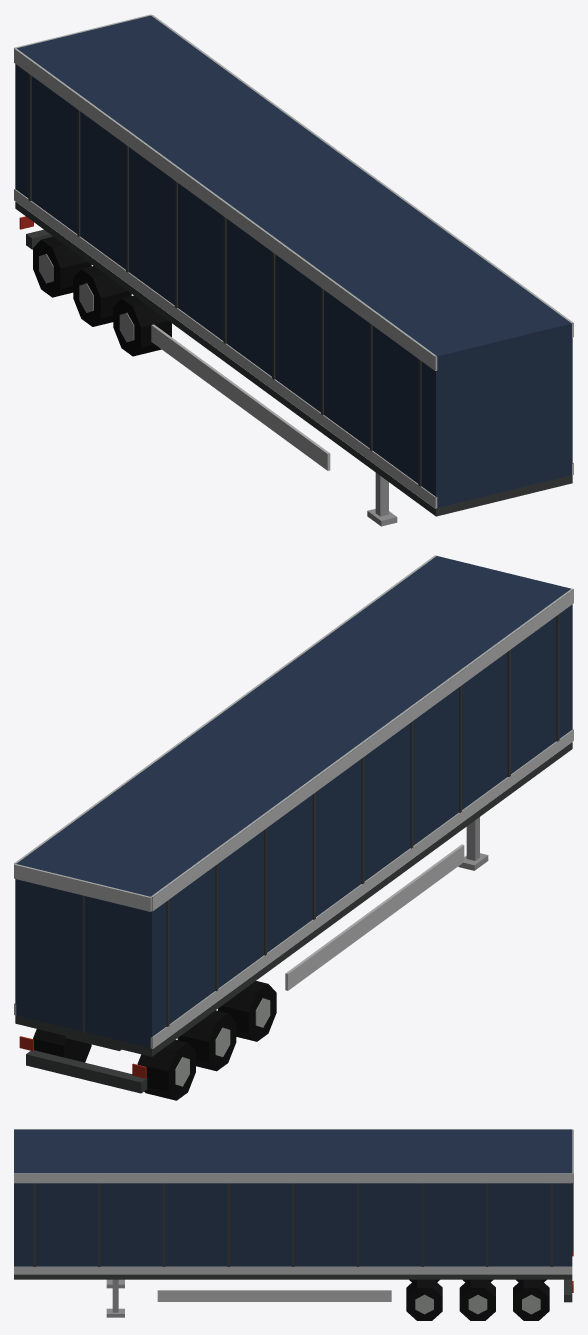
Rendered from vehicle.lorry.trailer_navy.glb.
3 views of the same model, one above another, from view 1: azimuth 30°, elevation 25°; view 2: azimuth 150°, elevation 25°; view 3: azimuth 270°, elevation 25° (orthographic). The views are drawn at different scales.
Visible parts, largest first — view 1: main__paint_235, main__paint_bbb, main__paint_333, main__rubber, main__steel_999, main__paint_999; view 2: main__paint_235, main__paint_bbb, main__paint_333, main__rubber, main__steel_999, main__paint_999; view 3: main__paint_235, main__paint_bbb, main__paint_333, main__rubber, main__steel_999, main__paint_999.
Boxes of the visible parts, x1=… form: main__paint_235: x1=15, y1=15, x2=572, y2=507; main__paint_bbb: x1=14, y1=14, x2=573, y2=508; main__paint_333: x1=15, y1=73, x2=572, y2=516; main__rubber: x1=33, y1=236, x2=171, y2=356; main__steel_999: x1=39, y1=254, x2=134, y2=342; main__paint_999: x1=367, y1=473, x2=397, y2=526; main__paint_235: x1=15, y1=556, x2=572, y2=1047; main__paint_bbb: x1=14, y1=555, x2=573, y2=1048; main__paint_333: x1=15, y1=614, x2=572, y2=1093; main__rubber: x1=33, y1=981, x2=276, y2=1100; main__steel_999: x1=175, y1=998, x2=270, y2=1086; main__paint_999: x1=458, y1=817, x2=488, y2=870; main__paint_235: x1=14, y1=1129, x2=572, y2=1266; main__paint_bbb: x1=14, y1=1129, x2=573, y2=1301; main__paint_333: x1=14, y1=1183, x2=573, y2=1302; main__rubber: x1=406, y1=1279, x2=549, y2=1320; main__steel_999: x1=415, y1=1294, x2=540, y2=1314; main__paint_999: x1=106, y1=1279, x2=124, y2=1317.
Bounding box in the file's own units: 2.6 × 4 × 13.64.
